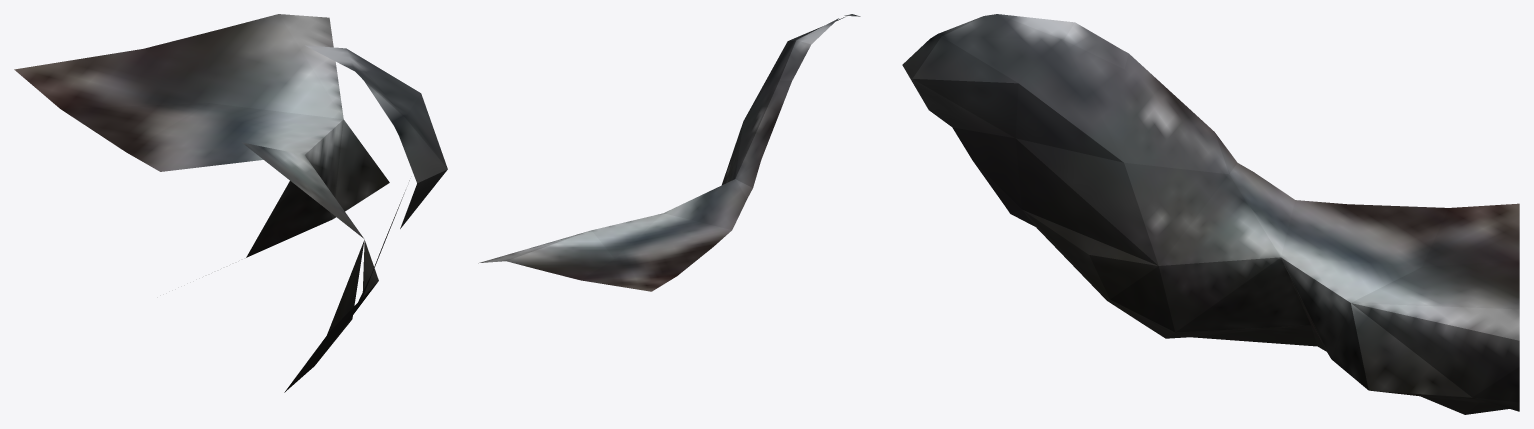
3 renders of one model, left to right at view 1: azimuth 30°, elevation 25°; view 2: azimuth 150°, elevation 25°; view 3: azimuth 270°, elevation 25°, orthographic. The views are drawn at different scales.
Bounding box in the file's own units: 0.0868 × 0.125 × 0.1903.
Materials: 1 (1 with a texture image).
